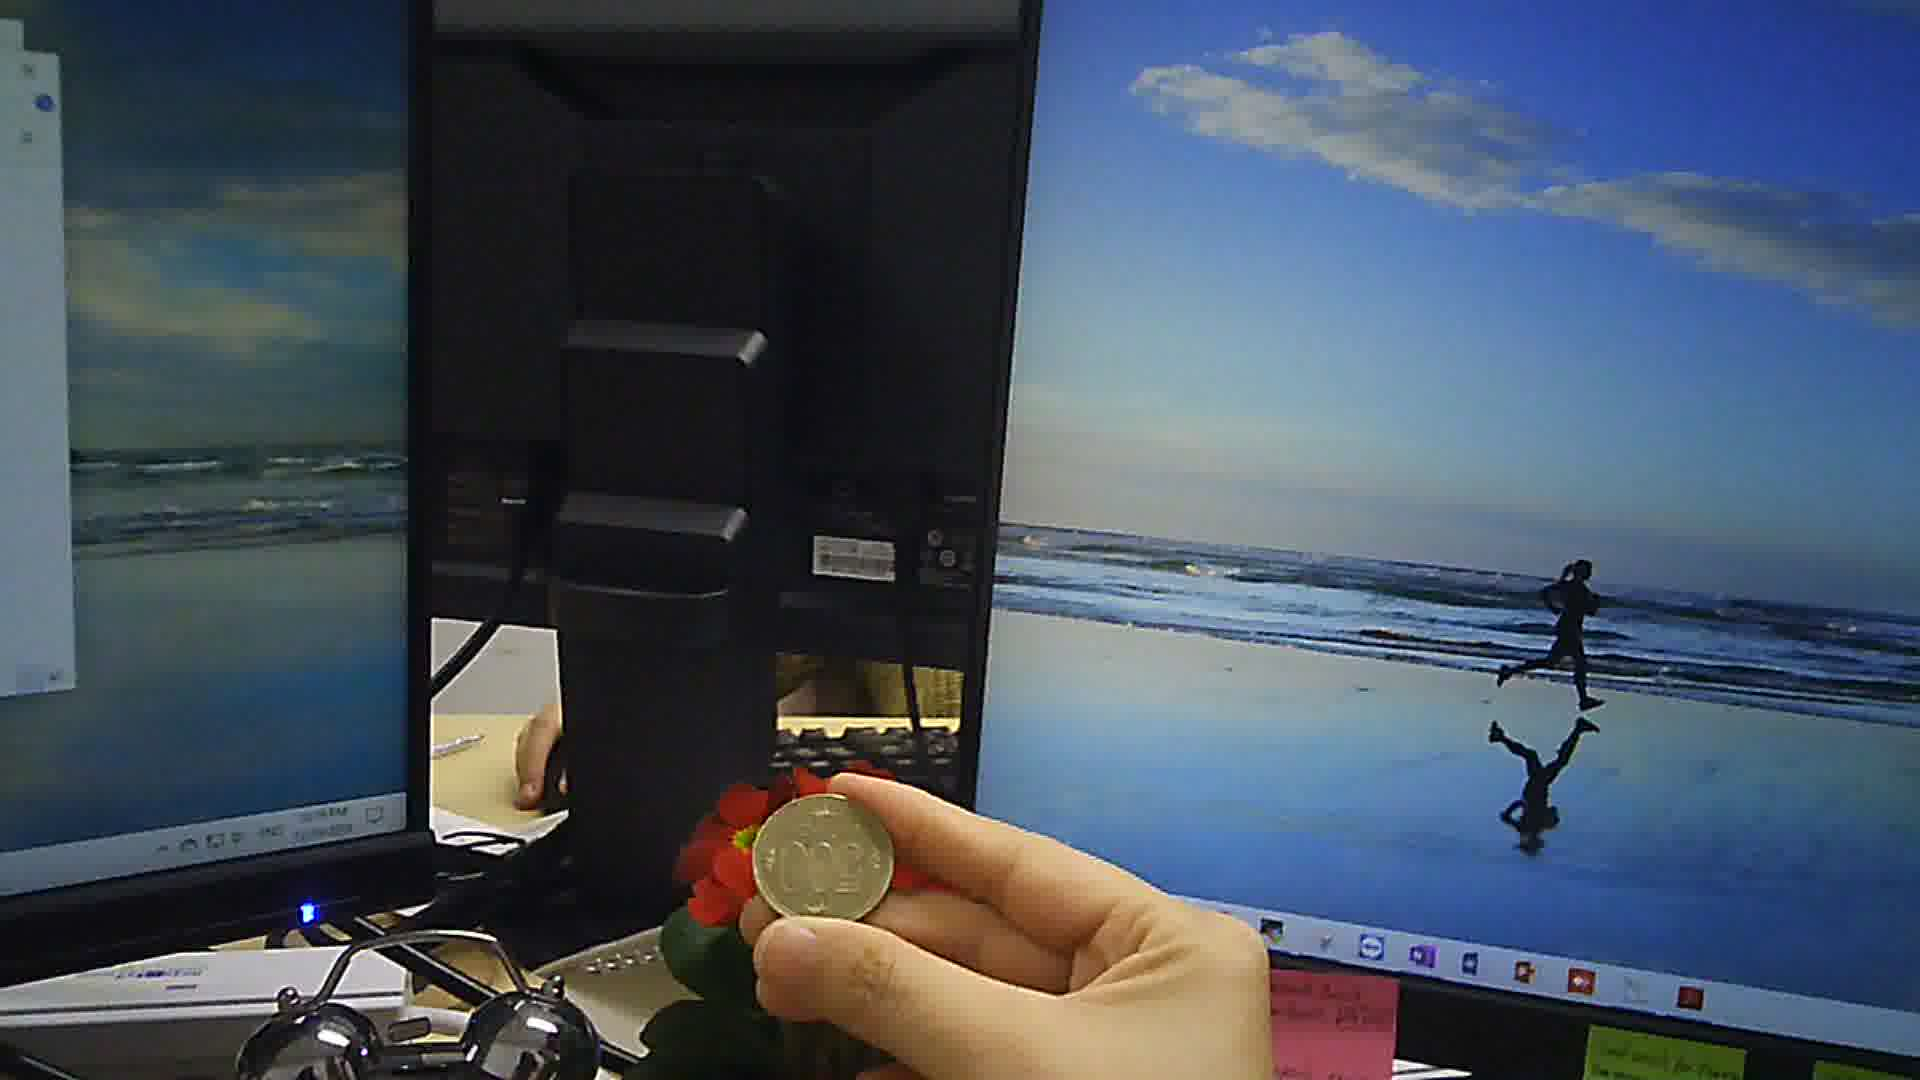500 Yen: (746, 794, 891, 938)
